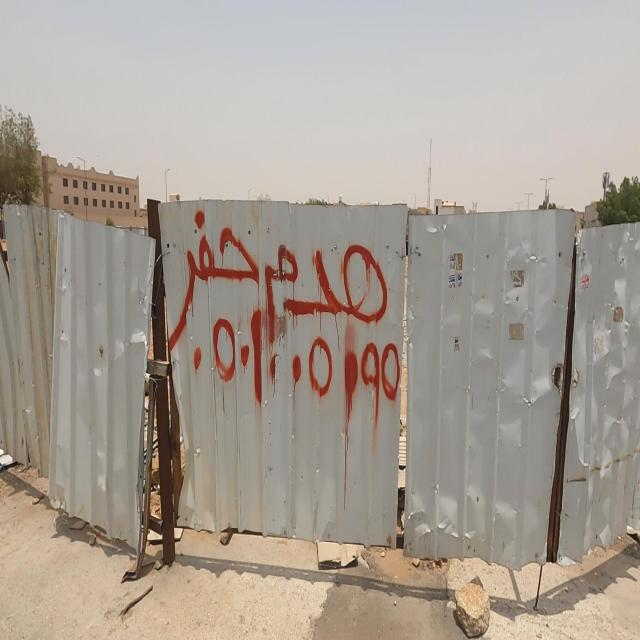Graffiti: (167, 210, 401, 430)
